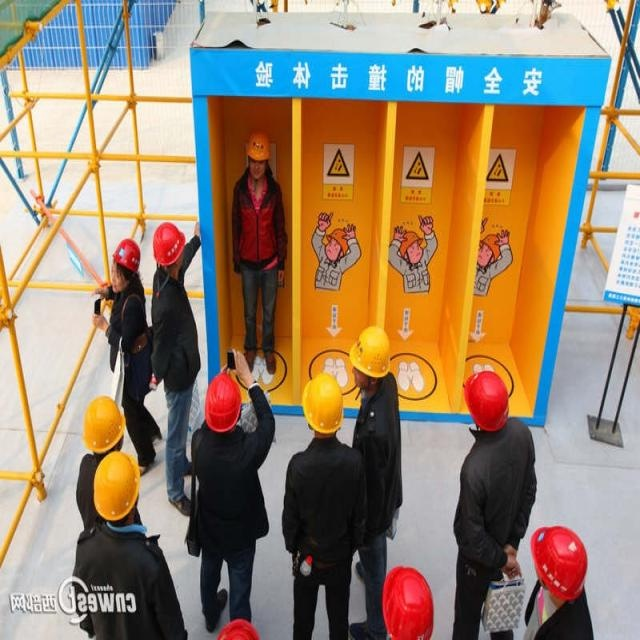Con_Casco: (461, 369, 510, 434), (303, 373, 342, 431), (244, 133, 273, 178)
